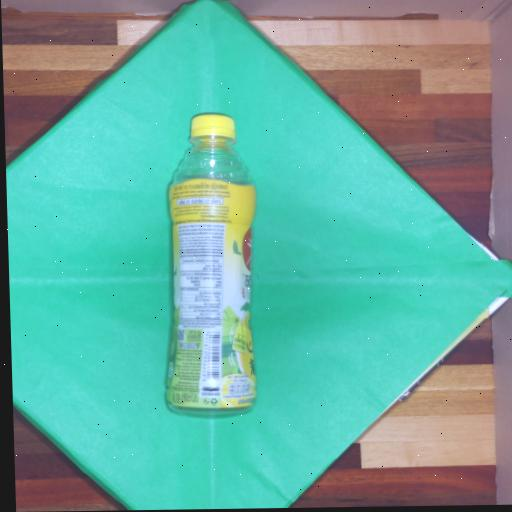bottle: (144, 95, 291, 440)
